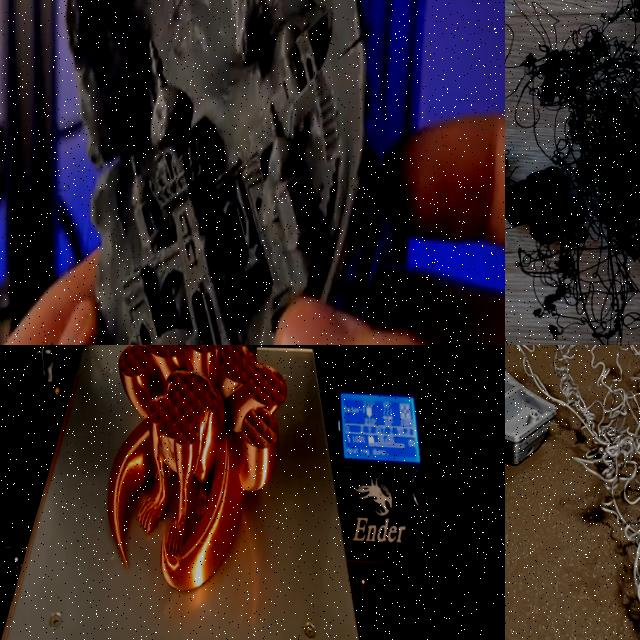spaghetti: (505, 0, 640, 345), (505, 345, 640, 630)
